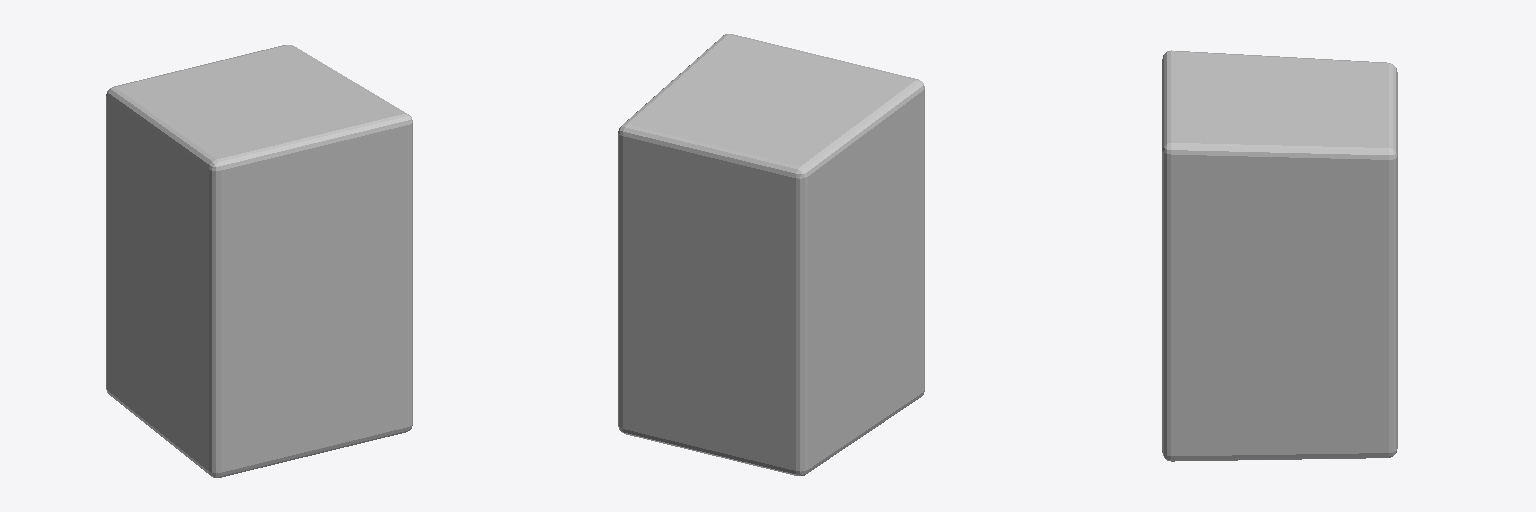
Rendered from enceinte tricks.obj.
3 views of the same model, side by side, from view 1: azimuth 30°, elevation 25°; view 2: azimuth 150°, elevation 25°; view 3: azimuth 270°, elevation 25° (orthographic).
Visible parts, largest first — view 1: lp_Cube.001; view 2: lp_Cube.001; view 3: lp_Cube.001.
Part boxes in pixels (left/top/right/bottom): lp_Cube.001: left=106, top=45, right=412, bottom=477; lp_Cube.001: left=618, top=34, right=924, bottom=475; lp_Cube.001: left=1162, top=50, right=1397, bottom=461.
Bounding box in the file's own units: 1.99 × 2.99 × 2.